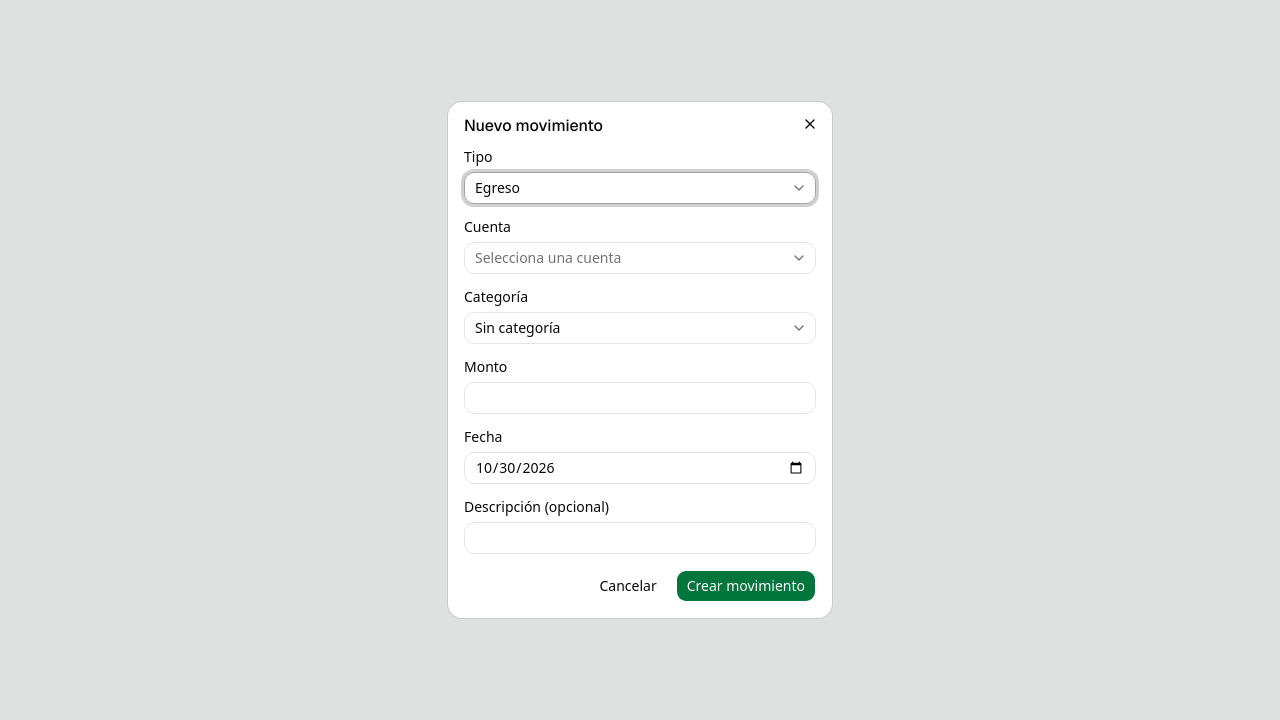
Scenario: TransactionFormModal › filtra las categorías por tipo y limpia la categoría al cambiarlo
Press ArrowDown in the dropdown labelled "categoría", box [464, 312, 816, 344]
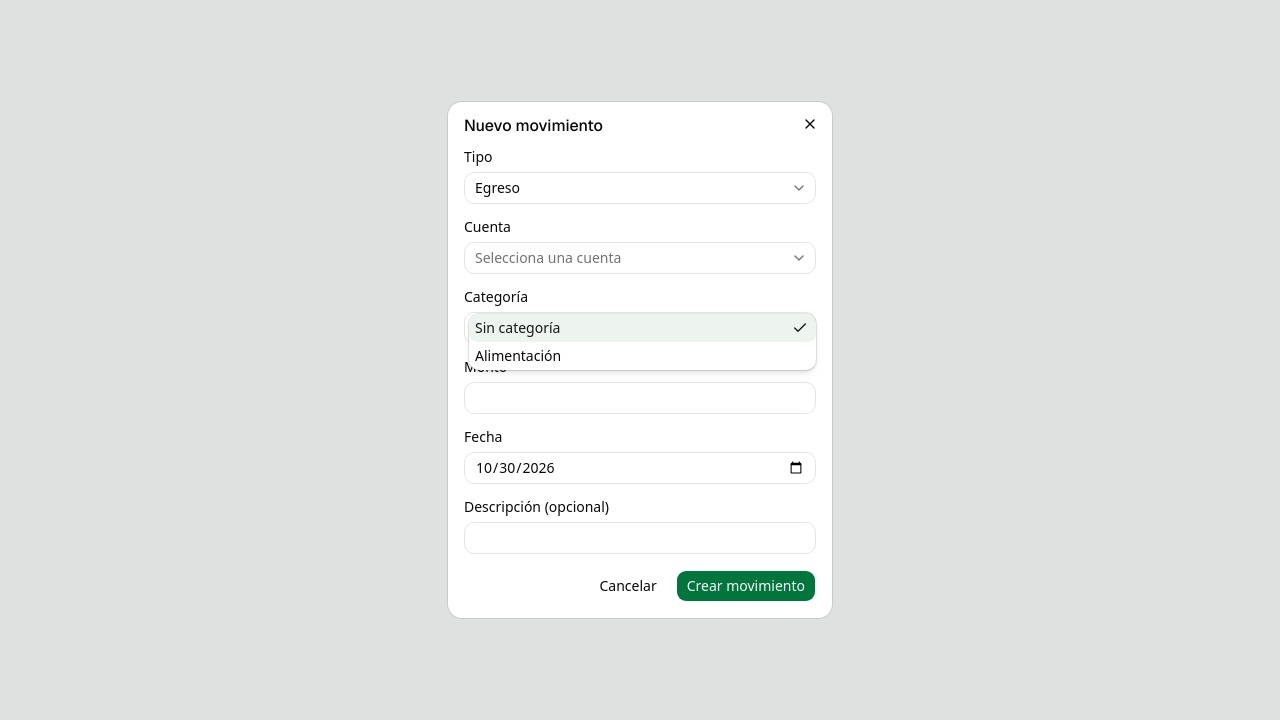
Click the option "Alimentación" at (518, 356), box [475, 346, 561, 365]
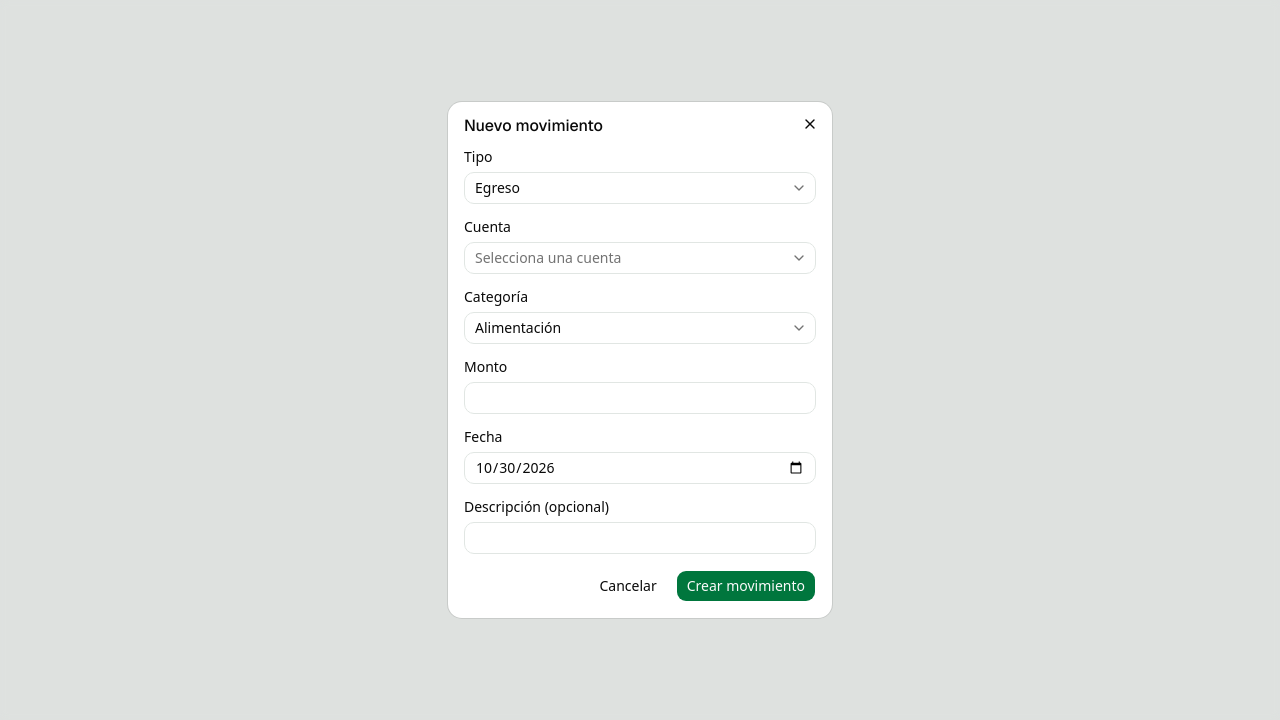
Expected: the dropdown named "Categoría" reads "Alimentación", [464, 312, 816, 344]
Press ArrowDown in the dropdown named "Tipo", box [464, 172, 816, 204]
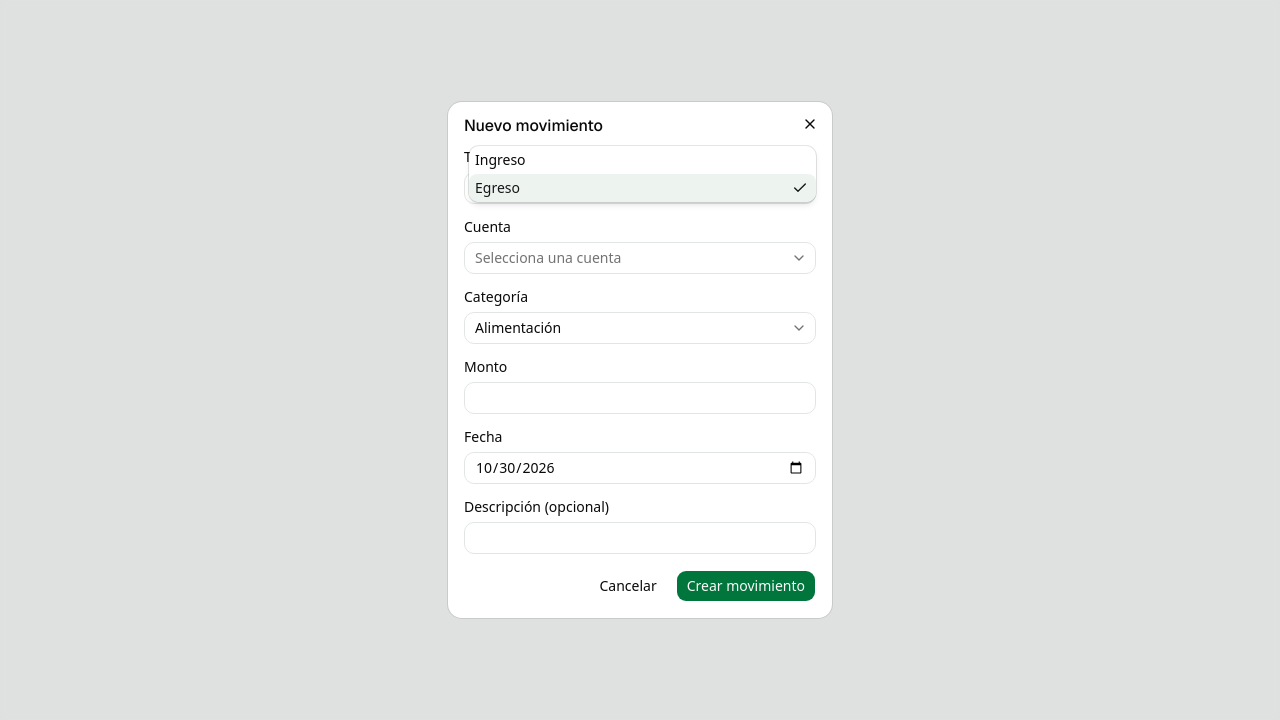
Click the option "Ingreso" at (500, 160), box [475, 150, 526, 169]
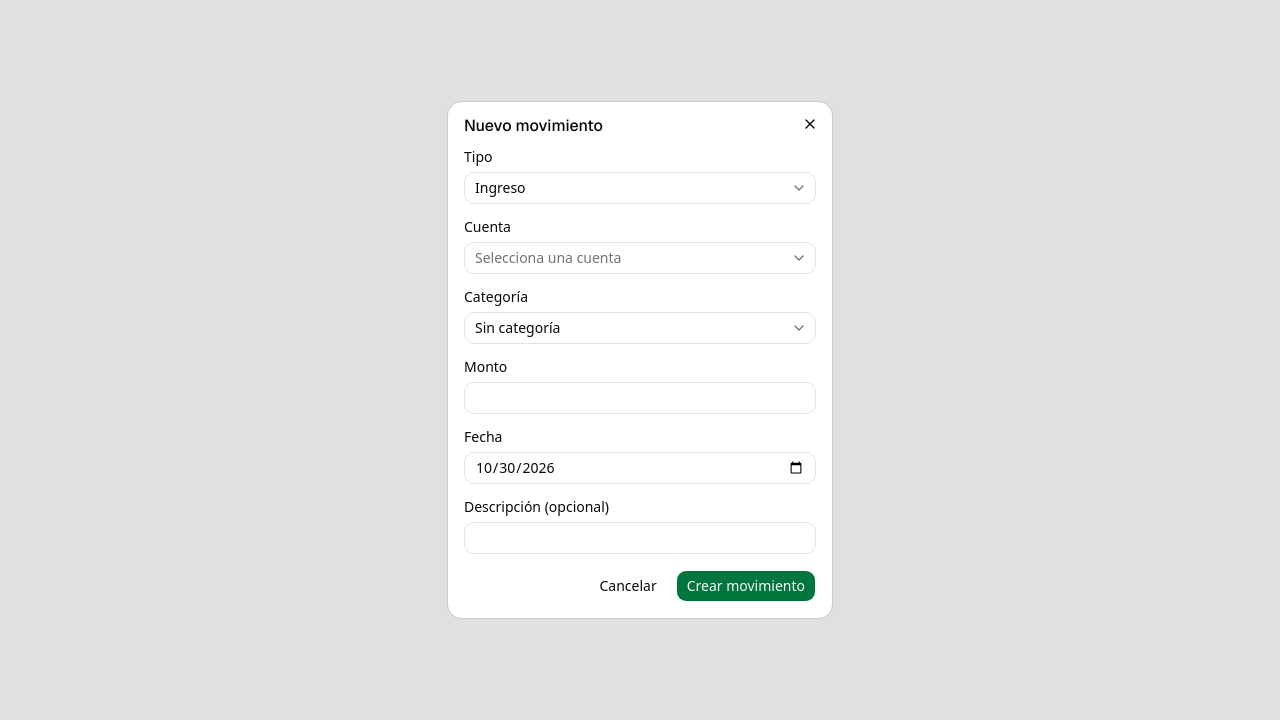
Expected: the dropdown labelled "categoría" reads "Sin categoría"
Press ArrowDown in the dropdown labelled "categoría", box [464, 312, 816, 344]
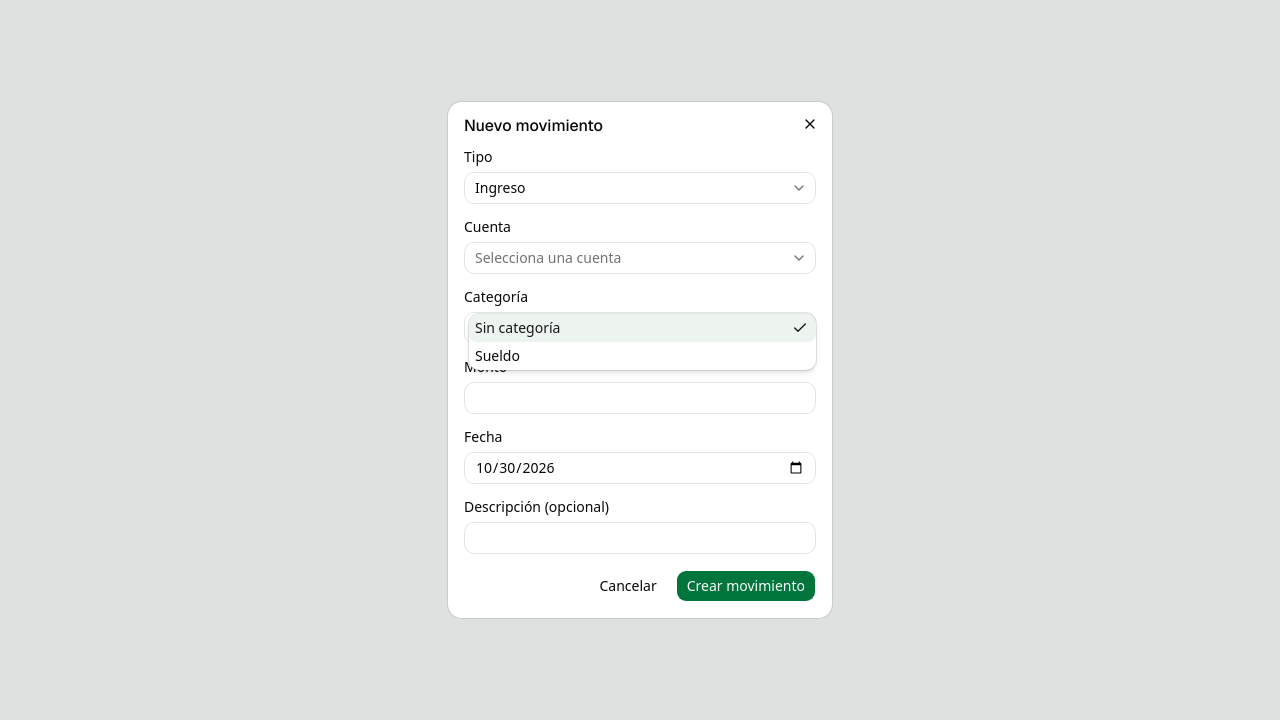
Expected: the dropdown labelled "Alimentación" is not shown
Expected: the option "Sueldo" is shown, [475, 346, 520, 365]
